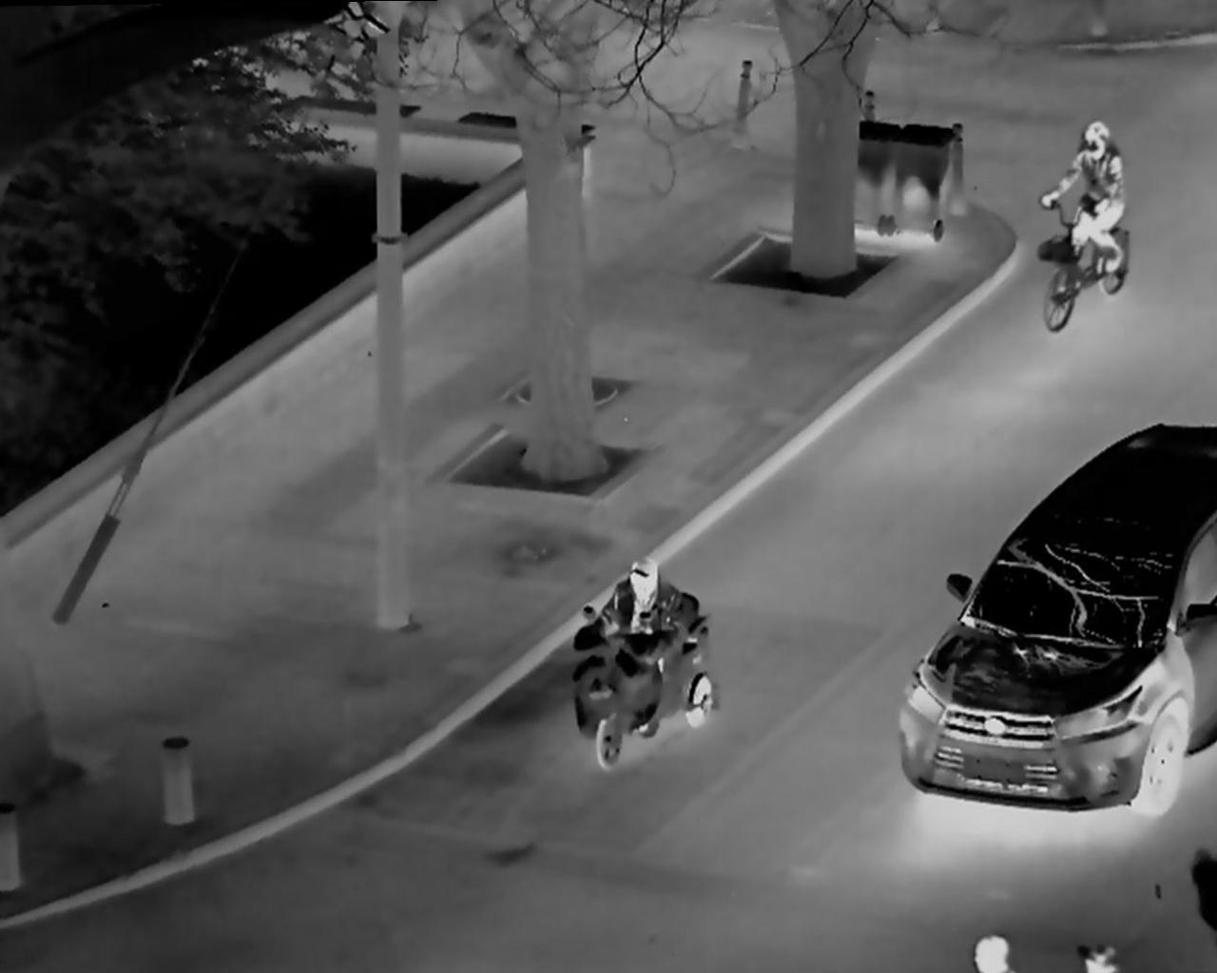person: (587, 546, 716, 764), (1033, 110, 1137, 304)
